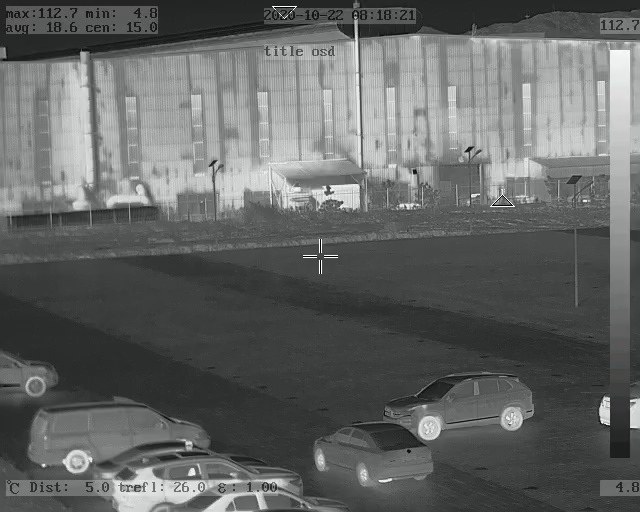vehicle: (29, 394, 208, 475), (98, 444, 311, 508), (393, 376, 532, 436), (309, 420, 440, 479), (1, 344, 57, 399)
